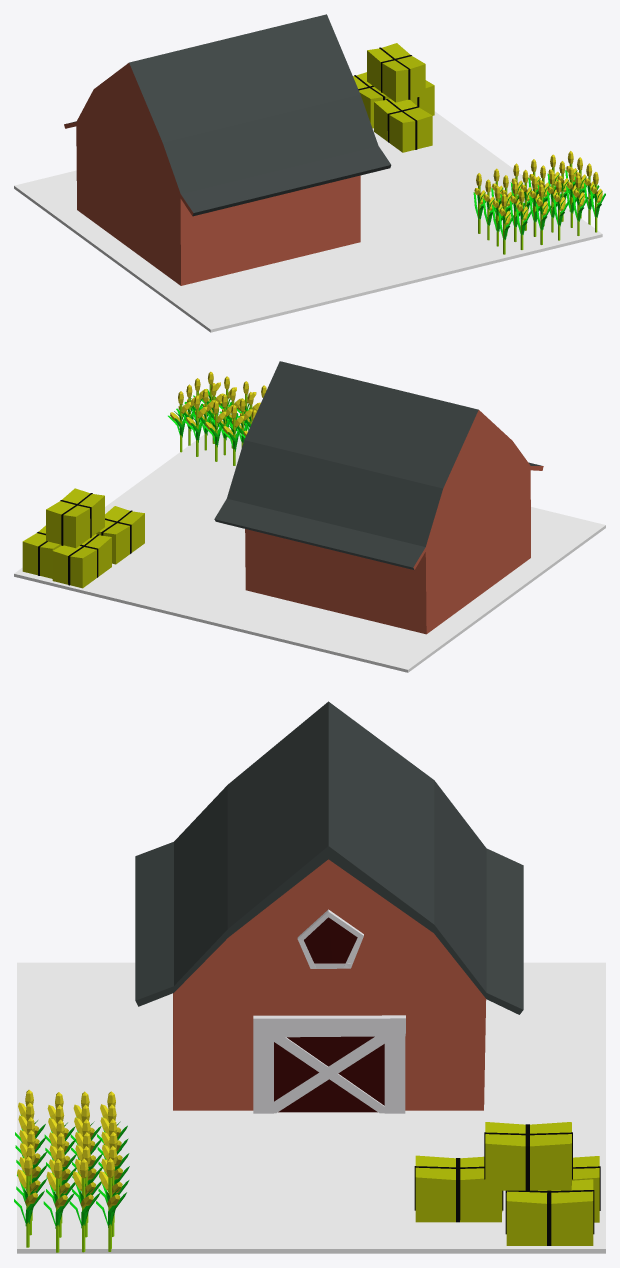
The model's file is farm.gltf.
The picture shows the model from 3 angles, top to bottom: view 1: azimuth 30°, elevation 25°; view 2: azimuth 150°, elevation 25°; view 3: azimuth 270°, elevation 25°; orthographic projection. The views are drawn at different scales.
Visible parts, largest first — view 1: Cube, Floor.003, Cube.004, Cube.003, Cube.001, Cube.002, Cylinder.018; view 2: Cube, Floor.003, Cube.004, Cube.001, Cube.003, Cube.002, Cylinder.016, Cylinder.014, Cylinder.015, Cylinder.017; view 3: Cube, Floor.003, Cube.004, Cube.003, Cube.002, Cube.001, Cylinder.010, Cylinder.005, Cylinder.014, Cylinder.123.
Boxes of the visible parts, left/top/right/bottom form: Cube: left=64, top=14, right=391, bottom=285; Floor.003: left=14, top=111, right=602, bottom=332; Cube.004: left=367, top=43, right=425, bottom=102; Cube.003: left=374, top=99, right=432, bottom=152; Cube.001: left=353, top=72, right=390, bottom=128; Cube.002: left=410, top=80, right=434, bottom=115; Cylinder.018: left=516, top=189, right=531, bottom=249; Cube: left=214, top=361, right=543, bottom=634; Floor.003: left=14, top=431, right=605, bottom=672; Cube.004: left=46, top=488, right=104, bottom=548; Cube.001: left=52, top=534, right=111, bottom=588; Cube.003: left=96, top=506, right=144, bottom=564; Cube.002: left=22, top=525, right=61, bottom=578; Cylinder.016: left=203, top=400, right=226, bottom=461; Cylinder.014: left=168, top=391, right=190, bottom=452; Cylinder.015: left=184, top=396, right=207, bottom=456; Cylinder.017: left=221, top=405, right=244, bottom=465; Cube: left=135, top=701, right=523, bottom=1113; Floor.003: left=17, top=962, right=605, bottom=1253; Cube.004: left=484, top=1122, right=572, bottom=1191; Cube.003: left=414, top=1155, right=503, bottom=1222; Cube.002: left=505, top=1179, right=594, bottom=1245; Cube.001: left=572, top=1156, right=600, bottom=1222; Cylinder.010: left=69, top=1158, right=100, bottom=1252; Cylinder.005: left=43, top=1159, right=74, bottom=1252; Cylinder.014: left=96, top=1158, right=126, bottom=1251; Cylinder.123: left=14, top=1156, right=44, bottom=1247.
Bounding box in the file's own units: 14.22 × 6.34 × 12.06.
